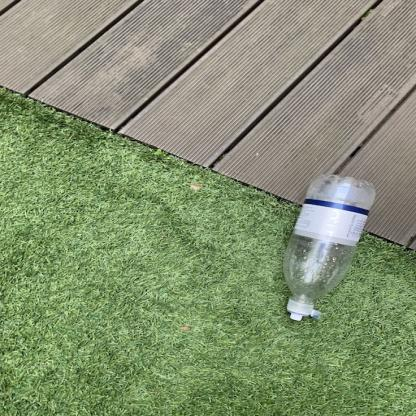trash: (284, 175, 377, 324)
